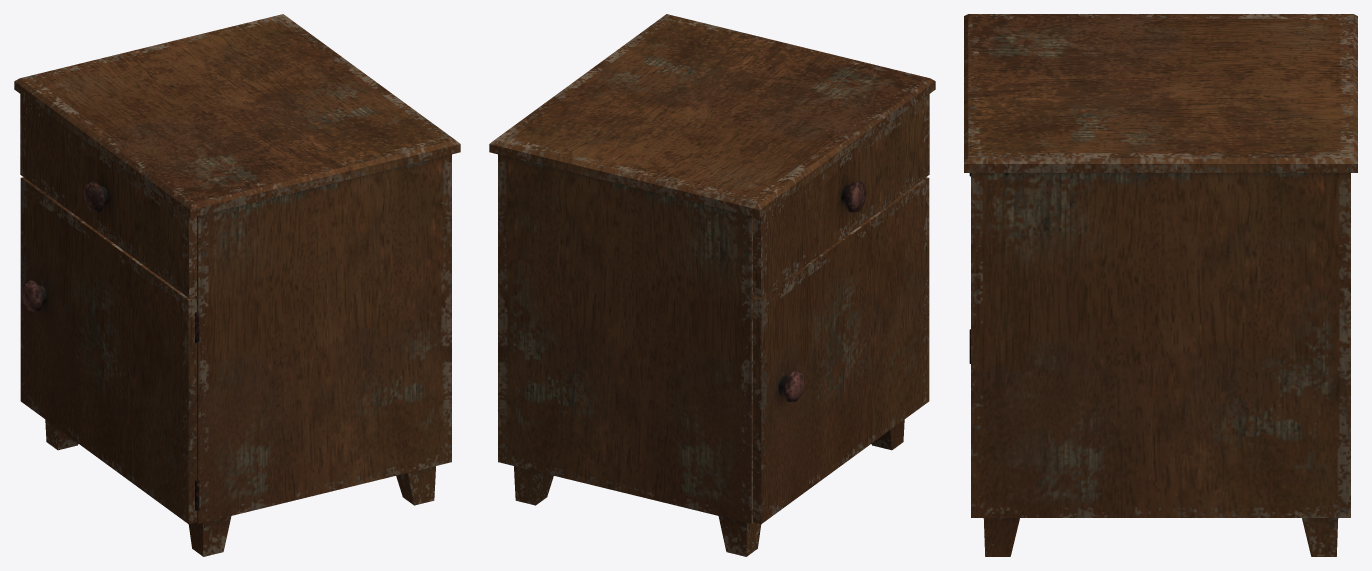
File: NFG-I0002.glb
3 views of the same model, side by side, from view 1: azimuth 30°, elevation 25°; view 2: azimuth 150°, elevation 25°; view 3: azimuth 270°, elevation 25° (orthographic). The views are drawn at different scales.
Visible parts, largest first — view 1: BS_table.001, Door.001, Box.004; view 2: BS_table.001, Door.001, Box.004; view 3: BS_table.001.
Part boxes in pixels (left/top/right/bottom): BS_table.001: left=14, top=14, right=460, bottom=556; Door.001: left=20, top=177, right=196, bottom=523; Box.004: left=20, top=94, right=196, bottom=297; BS_table.001: left=489, top=14, right=935, bottom=556; Door.001: left=753, top=177, right=929, bottom=523; Box.004: left=753, top=94, right=929, bottom=297; BS_table.001: left=964, top=14, right=1357, bottom=556.
Bounding box in the file's own units: 1.64 × 2 × 1.76.
Materials: 1 (1 with a texture image).
